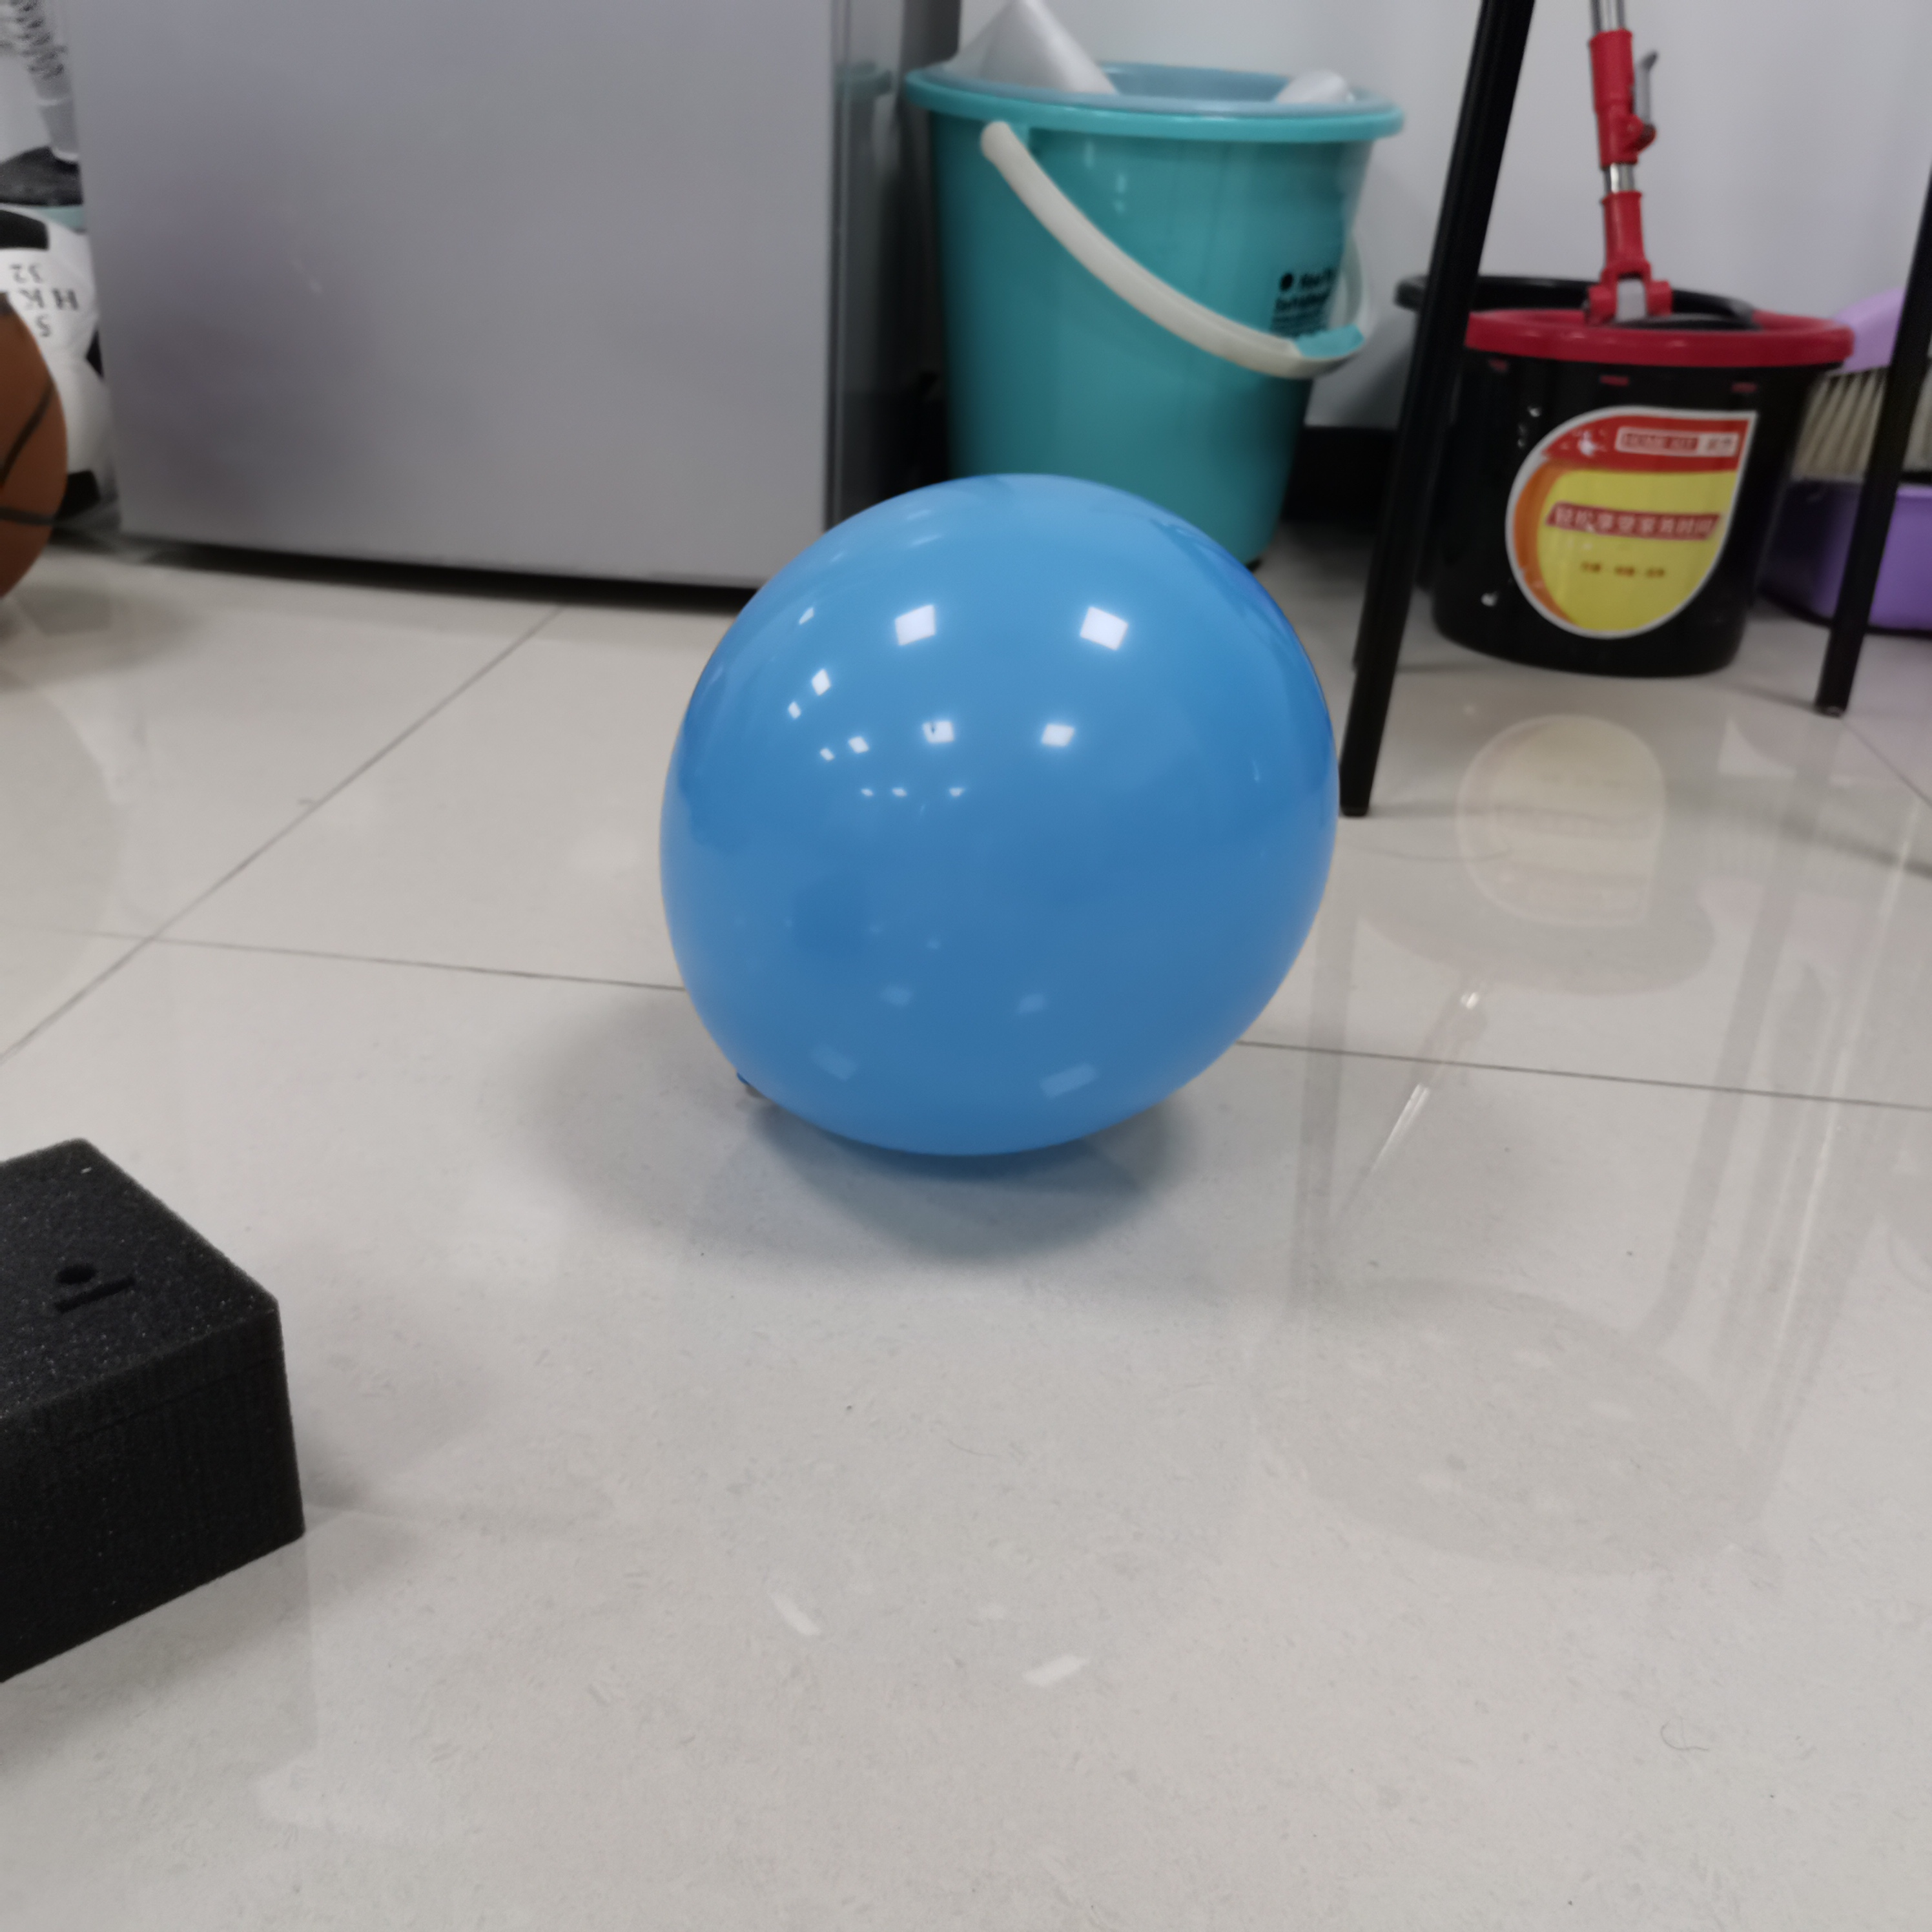balloon: (658, 465, 1338, 1171)
